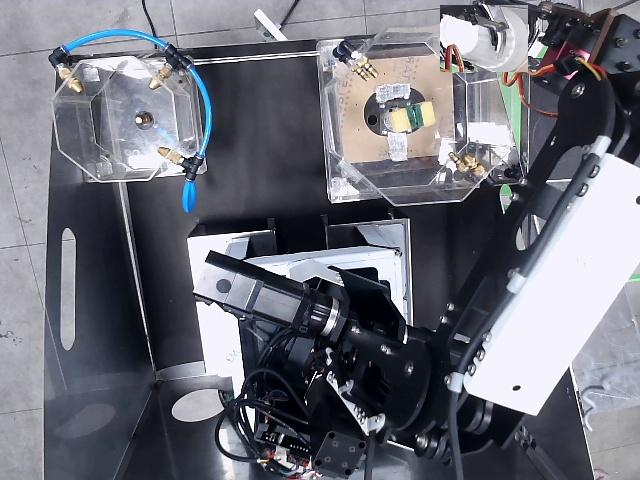cup: (440, 5, 528, 72)
